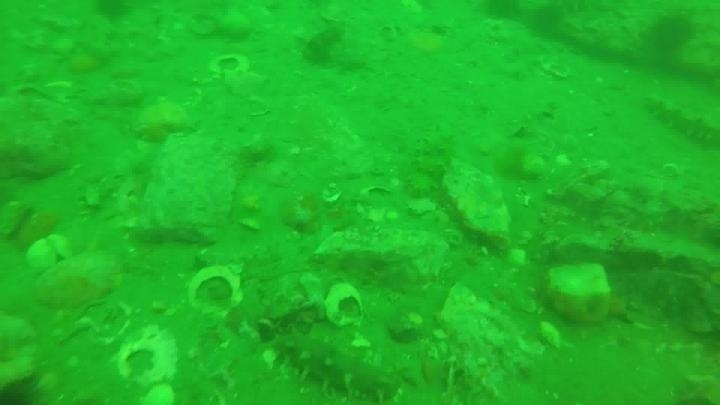echinus: (646, 11, 698, 56), (95, 1, 139, 33)
holothurian: (269, 329, 401, 401), (642, 92, 719, 150), (405, 125, 456, 201)
